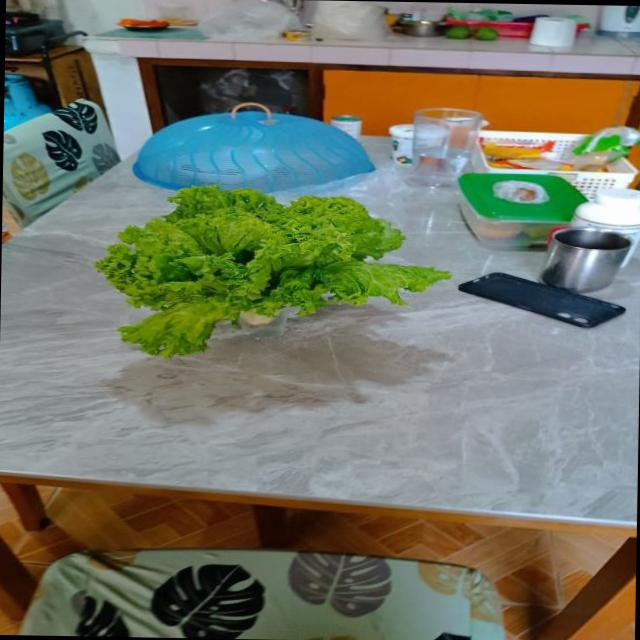Lettuce-Ready-to-Harvest: (96, 188, 448, 356)
